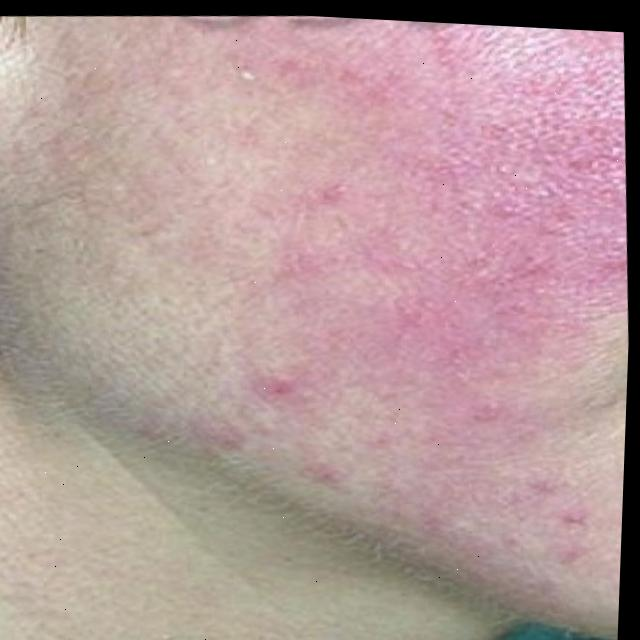Rosacea: (265, 23, 640, 478)
